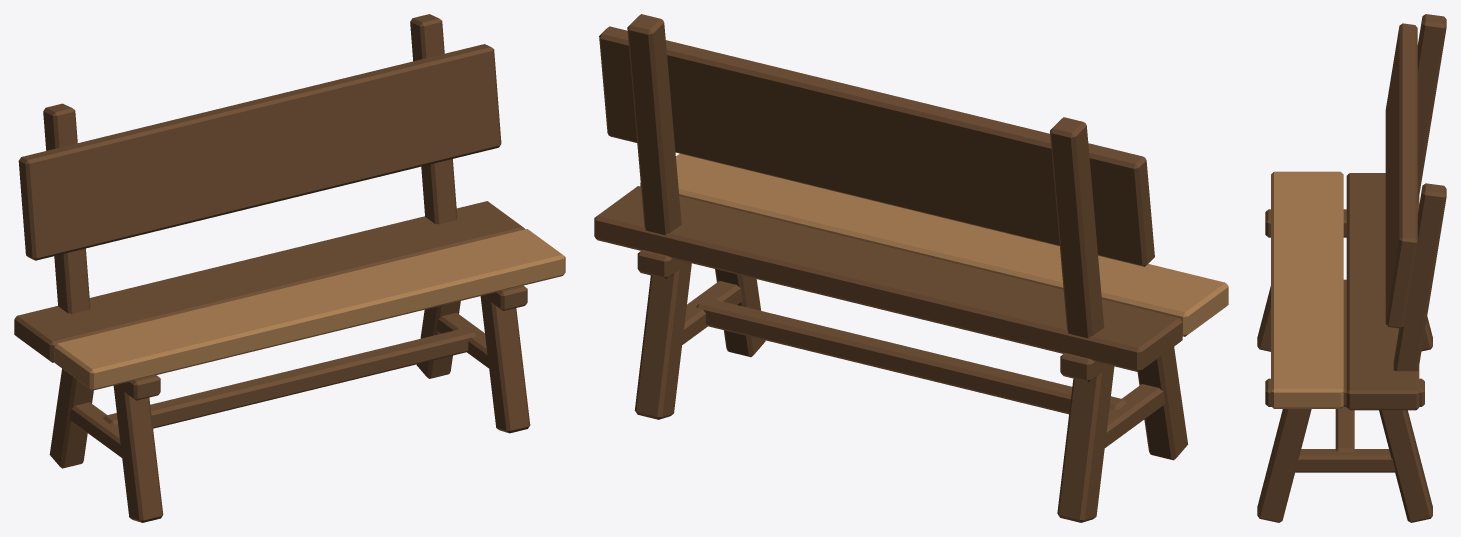
Rendered from mdvl_props_public_bench_01.glb.
3 renders of one model, left to right at view 1: azimuth 30°, elevation 25°; view 2: azimuth 150°, elevation 25°; view 3: azimuth 270°, elevation 25°, orthographic. The views are drawn at different scales.
Visible parts, largest first — view 1: mdvl_props_public_bench_01; view 2: mdvl_props_public_bench_01; view 3: mdvl_props_public_bench_01.
Part boxes in pixels (x1,y1,x2,y2): mdvl_props_public_bench_01: (14,14,565,522); mdvl_props_public_bench_01: (594,14,1228,522); mdvl_props_public_bench_01: (1257,14,1446,522).
Size of the model in its own units: 1.4 by 0.9861 by 0.5105.
1 material, 1 textured.
